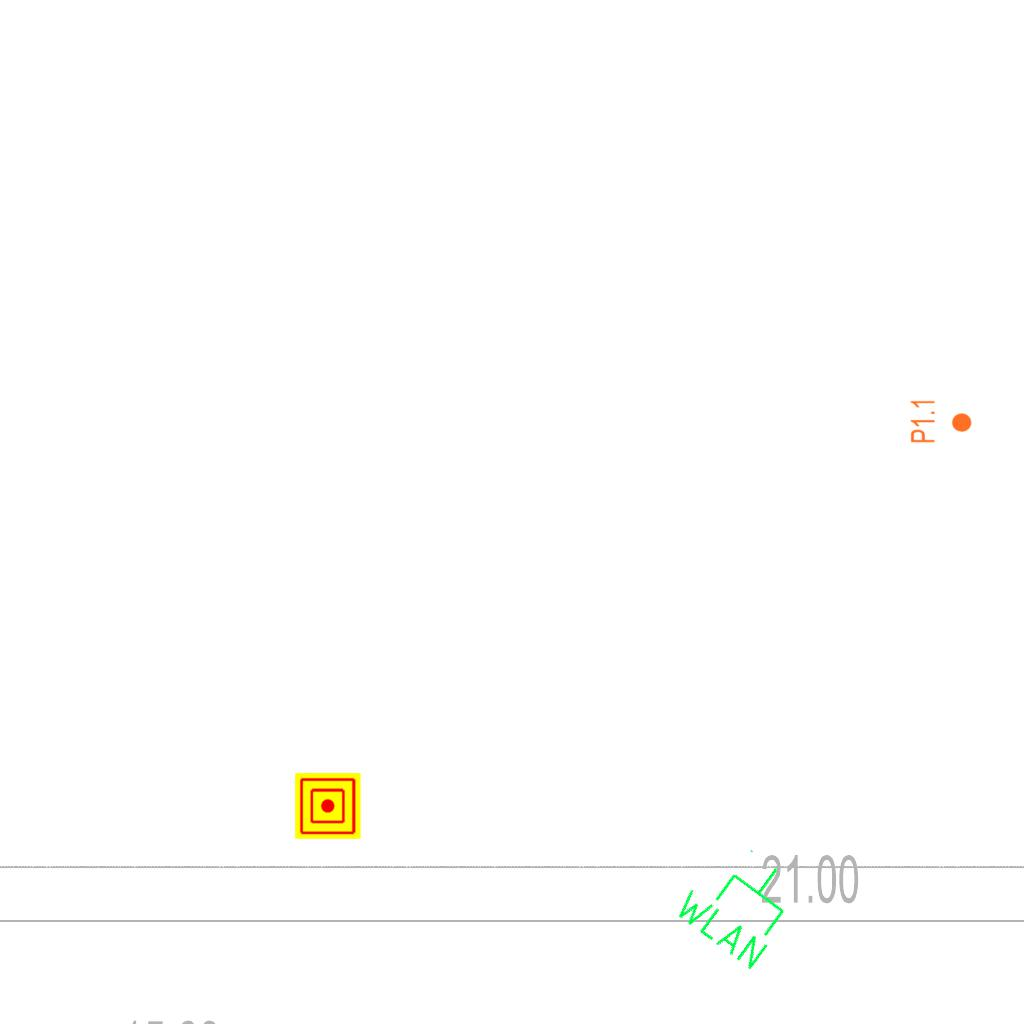Downlight_LED_Einbauleuchten_Flur: (909, 398, 973, 444)
NAM-Nichtautomatischer_Melder: (295, 773, 361, 839)
WLAN: (666, 829, 814, 976)
